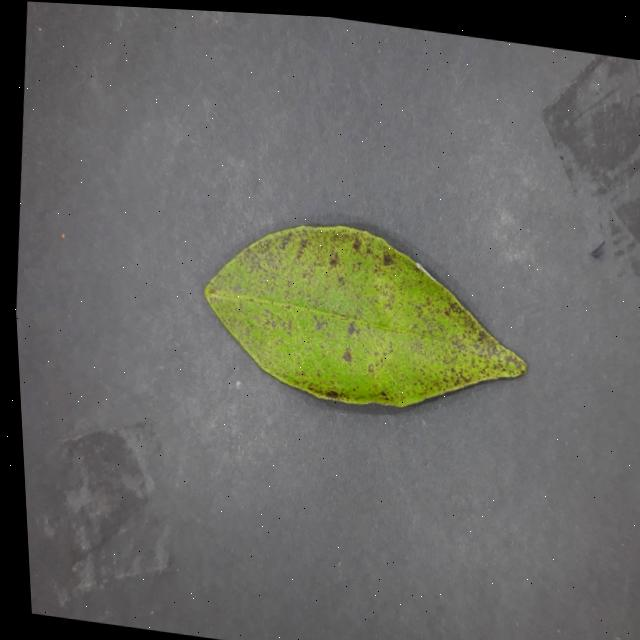greasy_spot: (205, 225, 526, 406)
